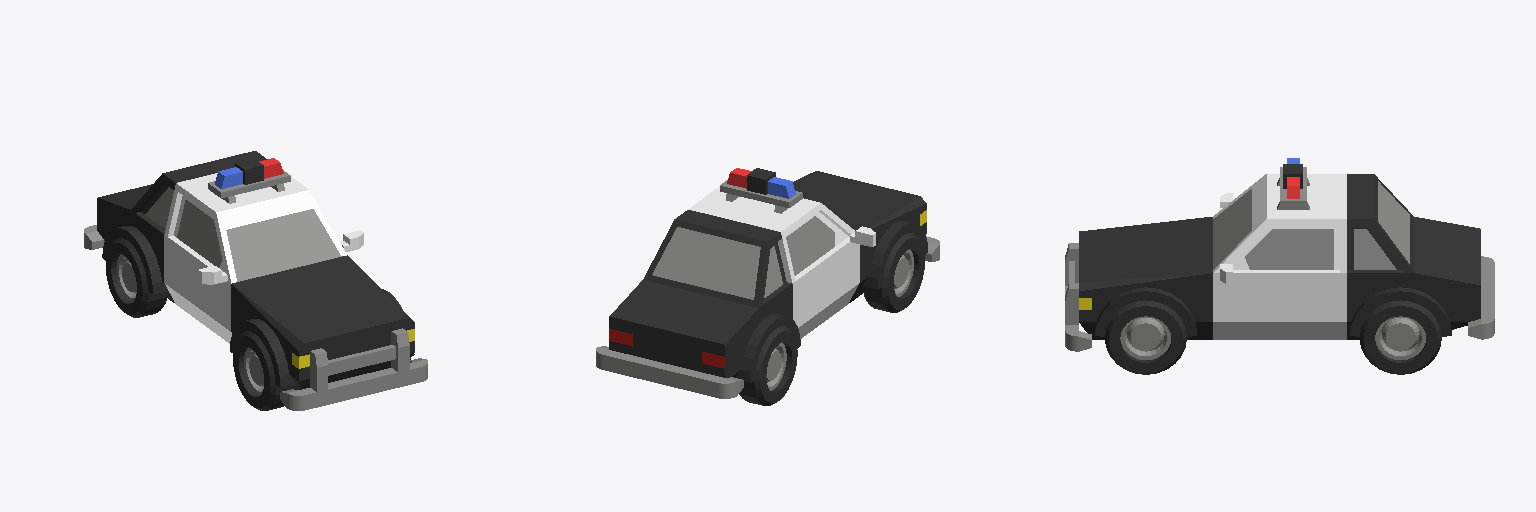
File: police_car_usa.obj
3 views of the same model, side by side, from view 1: azimuth 30°, elevation 25°; view 2: azimuth 150°, elevation 25°; view 3: azimuth 270°, elevation 25° (orthographic).
Visible parts, largest first — view 1: mergedBlocks; view 2: mergedBlocks; view 3: mergedBlocks.
Part boxes in pixels (left/top/right/bottom): mergedBlocks: left=84, top=151, right=427, bottom=410; mergedBlocks: left=596, top=168, right=939, bottom=405; mergedBlocks: left=1065, top=158, right=1494, bottom=374.
Bounding box in the file's own units: 1.4 × 1.43 × 3.2.